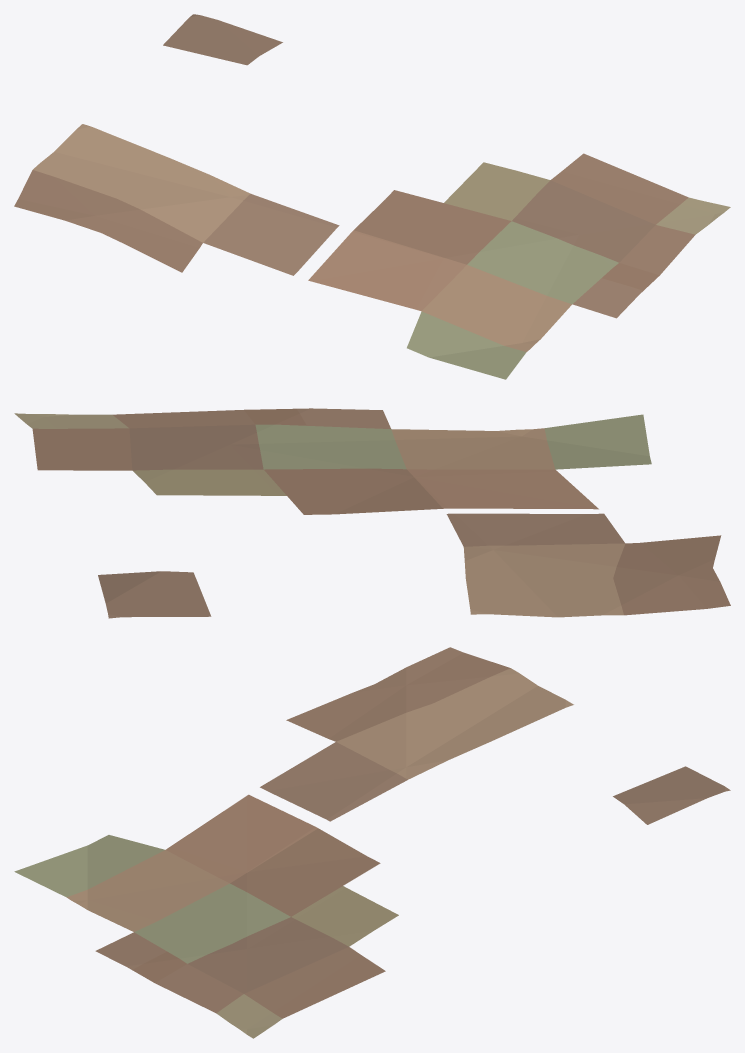
Rendered from farm_-4_-5_soil.glb.
The picture shows the model from 3 angles, top to bottom: view 1: azimuth 30°, elevation 25°; view 2: azimuth 150°, elevation 25°; view 3: azimuth 270°, elevation 25°; orthographic projection. The views are drawn at different scales.
Parts seen in each view (by area): view 1: geometry_0; view 2: geometry_0; view 3: geometry_0.
Part boxes in pixels (bbox=[...]): geometry_0: bbox=[14, 14, 730, 379]; geometry_0: bbox=[14, 408, 730, 618]; geometry_0: bbox=[14, 647, 730, 1038].
Size of the model in its own units: 367 by 58.6 by 360.
